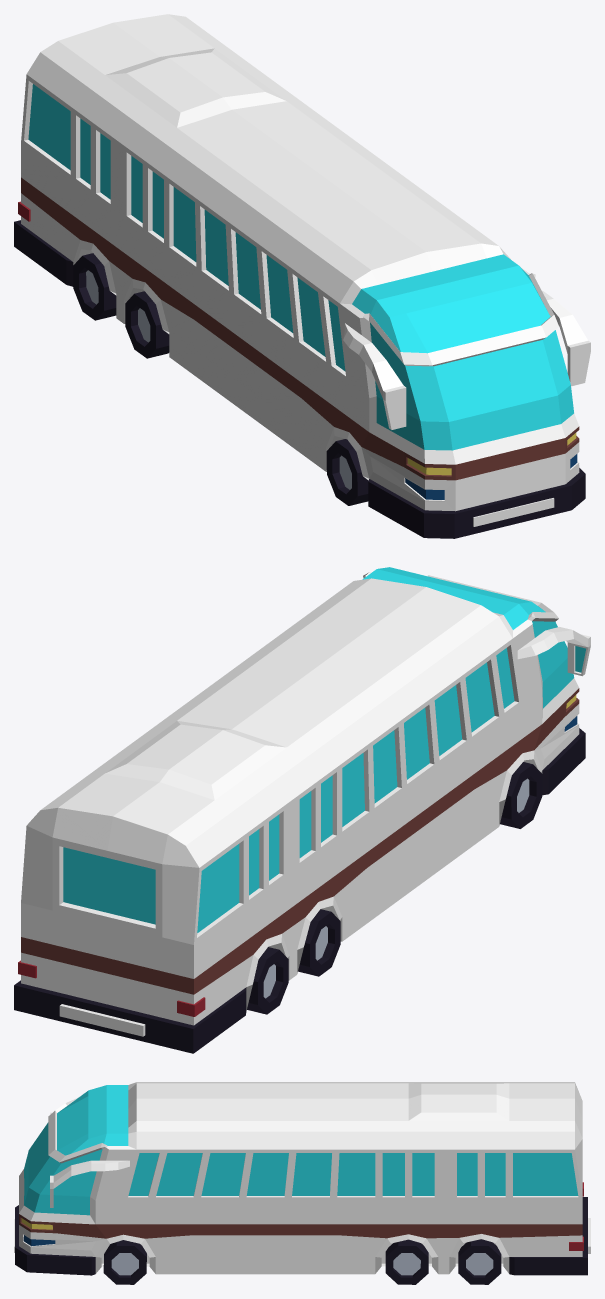
The model's file is car1.fbx.
3 views of the same model, one above another, from view 1: azimuth 30°, elevation 25°; view 2: azimuth 150°, elevation 25°; view 3: azimuth 270°, elevation 25° (orthographic). The views are drawn at different scales.
Parts seen in each view (by area): view 1: Autobus; view 2: Autobus; view 3: Autobus.
Part boxes in pixels (x1,y1,x2,y2): Autobus: (14,14,590,538); Autobus: (14,567,590,1053); Autobus: (14,1082,590,1284).
Size of the model in its own units: 2.59 by 2.73 by 9.01.
